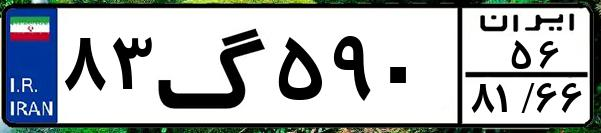0: (385, 28, 445, 110)
1: (495, 70, 520, 125)
3: (110, 28, 156, 98)
5: (270, 28, 330, 110), (508, 27, 537, 80)
6: (560, 70, 590, 125), (537, 27, 568, 80), (535, 70, 560, 125)
8: (57, 26, 110, 100), (470, 70, 495, 125)
9: (330, 28, 385, 110)
گ: (156, 12, 270, 120)
